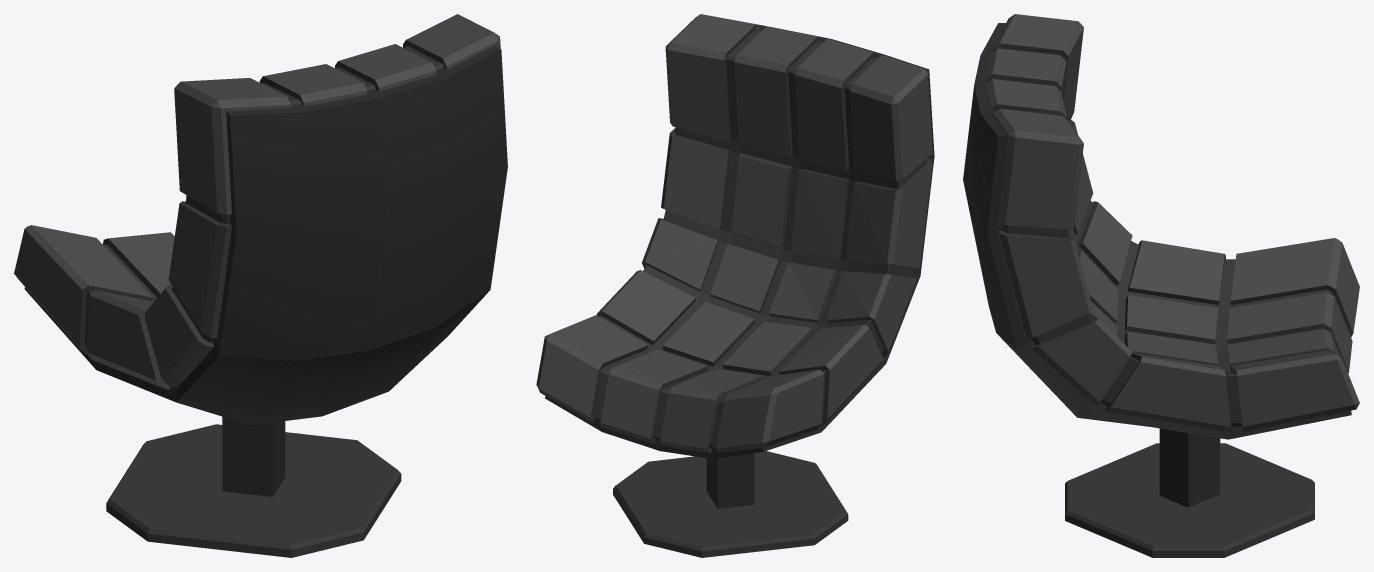
File: chair_B.FBX
3 renders of one model, left to right at view 1: azimuth 30°, elevation 25°; view 2: azimuth 150°, elevation 25°; view 3: azimuth 270°, elevation 25°, orthographic. The views are drawn at different scales.
Visible parts, largest first — view 1: chair_B; view 2: chair_B; view 3: chair_B.
Part boxes in pixels (x1,y1,x2,y2): chair_B: (14,14,507,557); chair_B: (536,14,934,557); chair_B: (963,14,1359,557).
Size of the model in its own units: 33.43 by 55.79 by 46.32.
